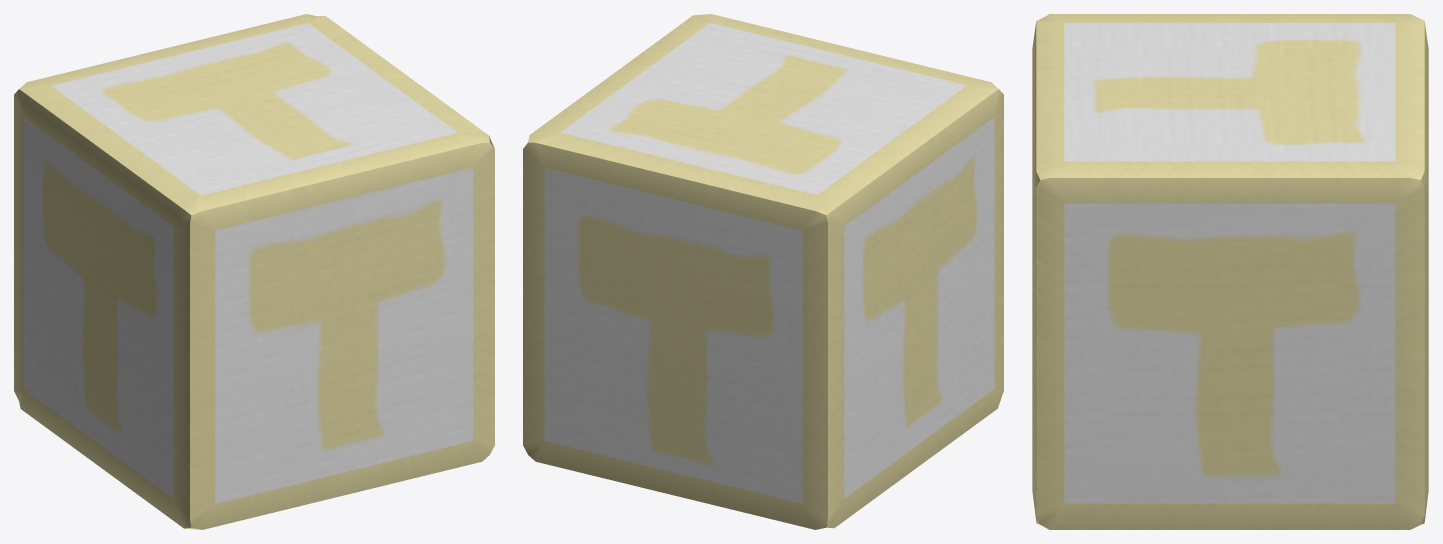
Rendered from BlockT.fbx.
3 views of the same model, side by side, from view 1: azimuth 30°, elevation 25°; view 2: azimuth 150°, elevation 25°; view 3: azimuth 270°, elevation 25° (orthographic). The views are drawn at different scales.
Parts seen in each view (by area): view 1: pCube1; view 2: pCube1; view 3: pCube1.
Boxes of the visible parts, x1,y1,x2,y2 form: pCube1: [14, 14, 494, 529]; pCube1: [523, 14, 1003, 529]; pCube1: [1032, 14, 1428, 529].
Bounding box in the file's own units: 9 × 9 × 9.
